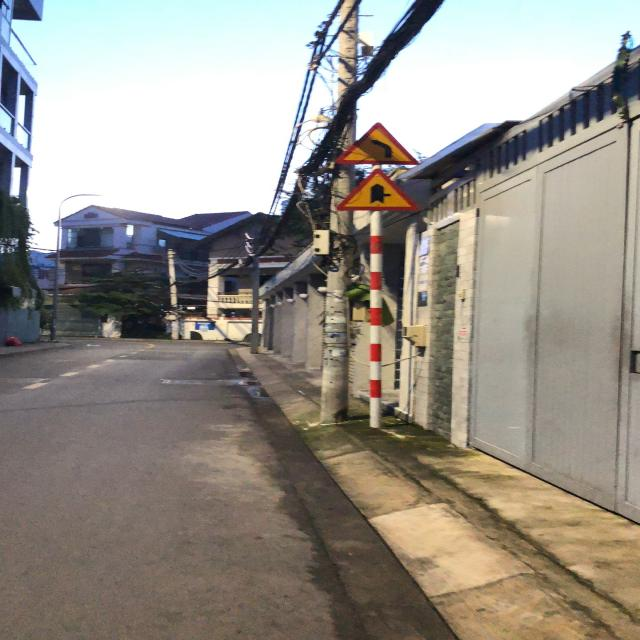Bien bao cho ngoat nguy hiem: (319, 119, 428, 166)
Bien bao giao nhau voi duong khong uu tien: (310, 166, 431, 215)
